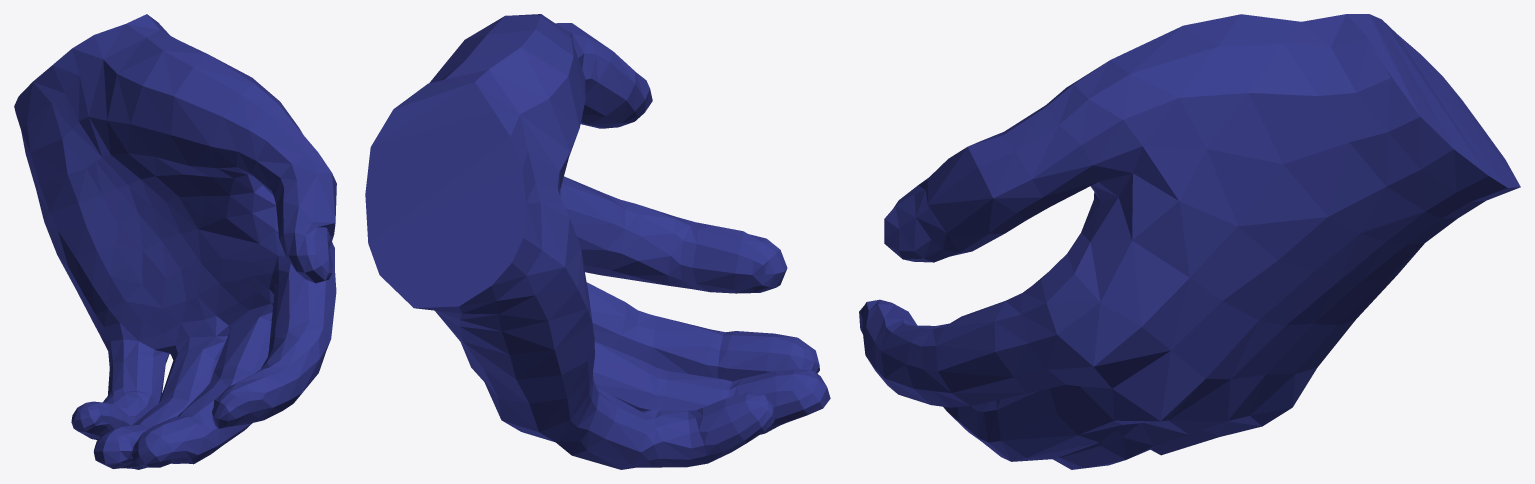
3 renders of one model, left to right at view 1: azimuth 30°, elevation 25°; view 2: azimuth 150°, elevation 25°; view 3: azimuth 270°, elevation 25°, orthographic. The views are drawn at different scales.
Bounding box in the file's own units: 0.0999 × 0.1208 × 0.1517.
